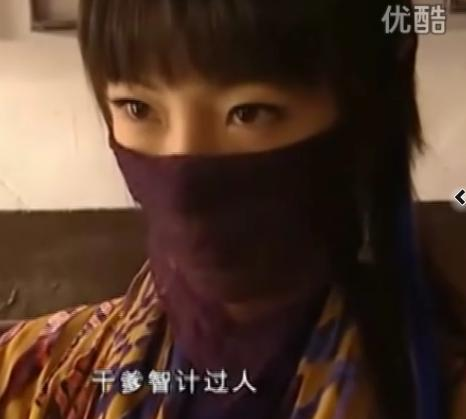face_mask: (109, 28, 342, 281)
